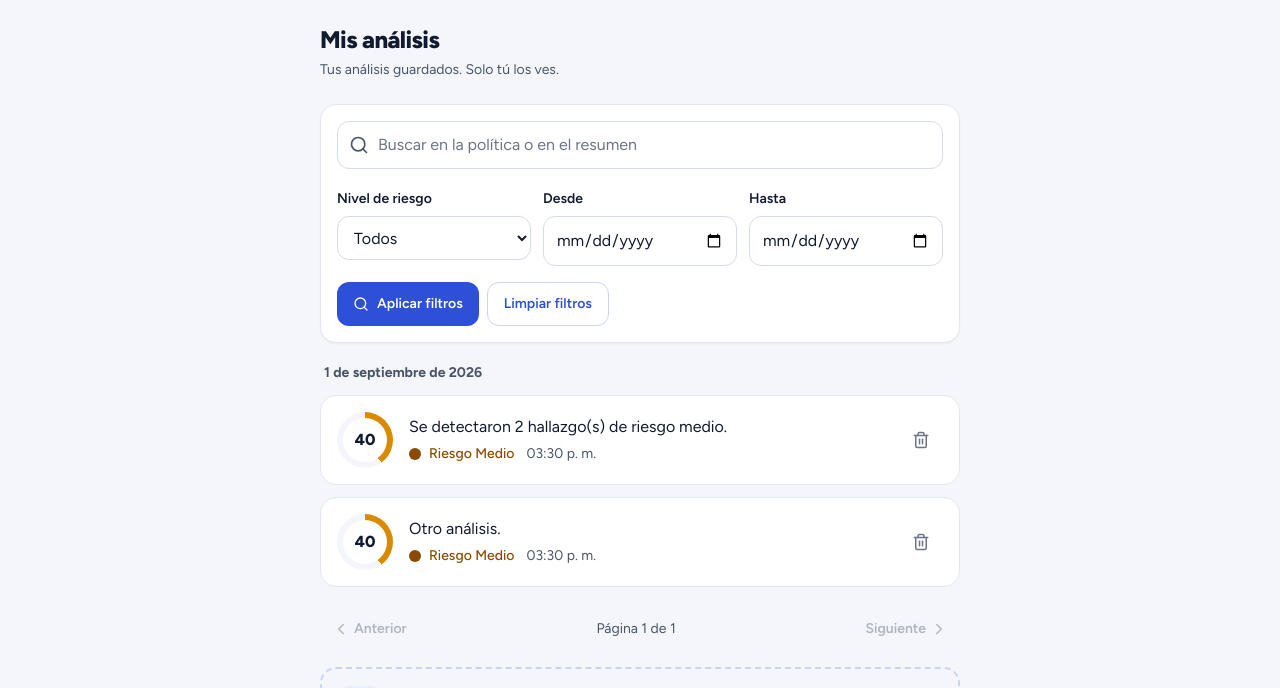
Historial › eliminación › elimina un análisis tras confirmar y vuelve a cargar el historial
Click the 1st button named "Eliminar el análisis del".
click(921, 440)  # box [899, 418, 943, 462]
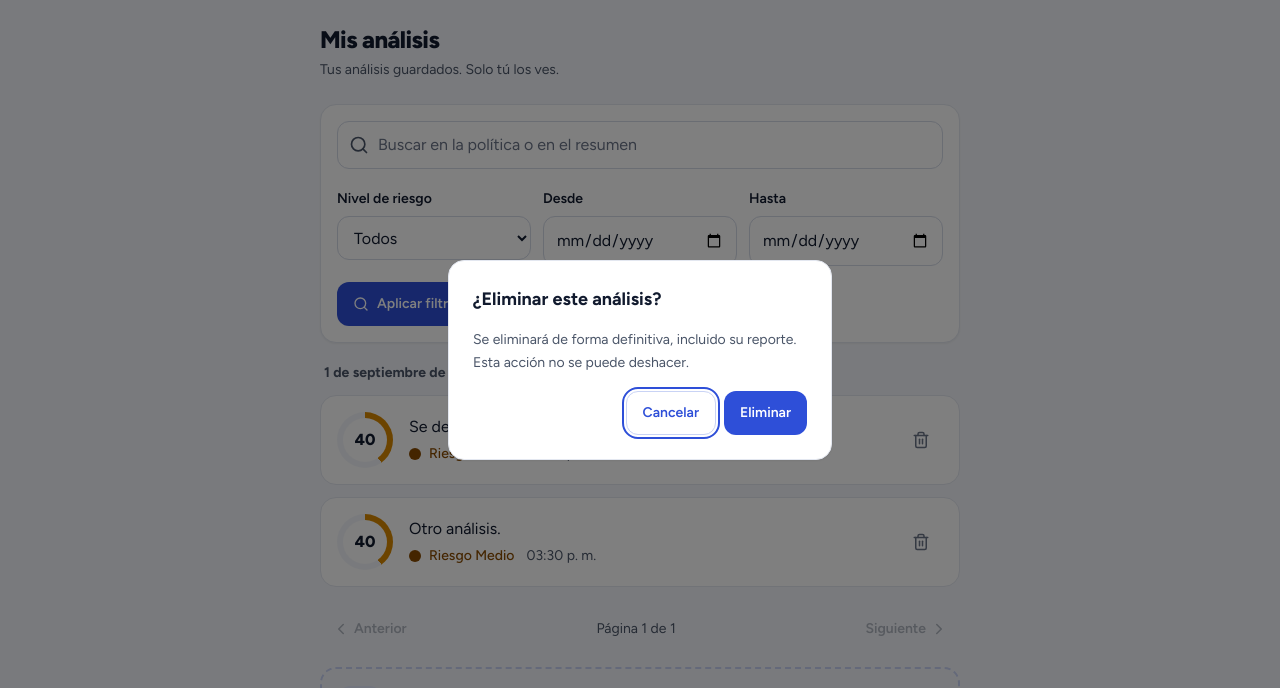
Click the button "Eliminar".
click(766, 413)  # box [724, 391, 807, 435]
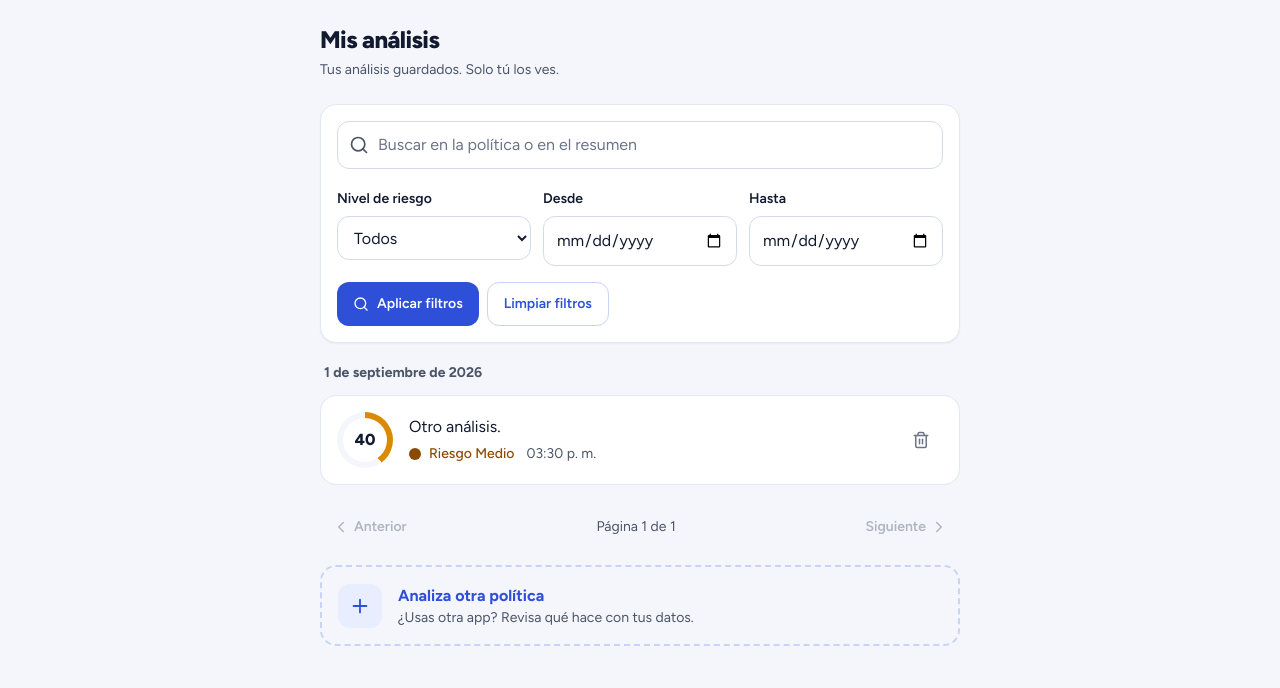
Check: the text "Otro análisis." is shown, box [409, 417, 500, 436]
Check: the link "Se detectaron 2 hallazgo(s) de riesgo medio." is gone
